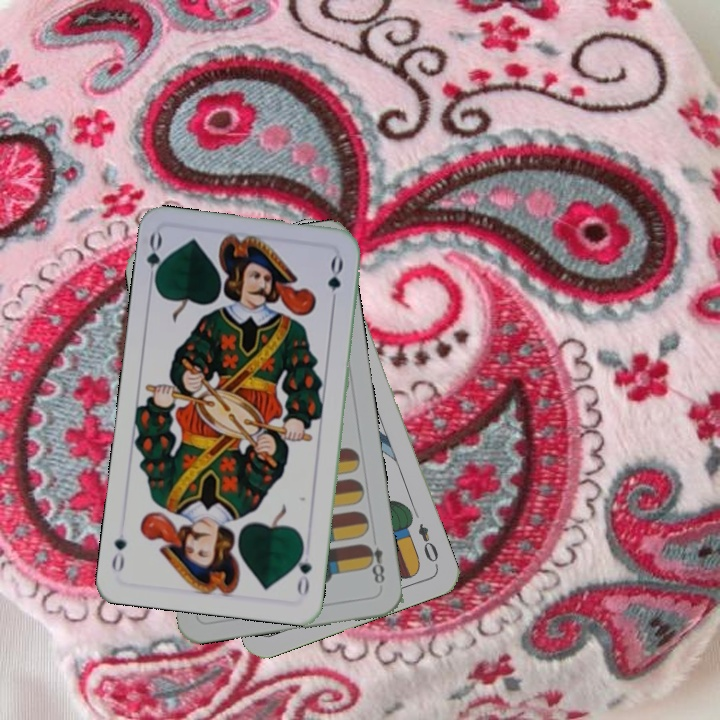E8: (360, 540, 388, 587)
EO: (414, 519, 441, 570)
GO: (142, 229, 169, 290), (291, 540, 315, 598)
